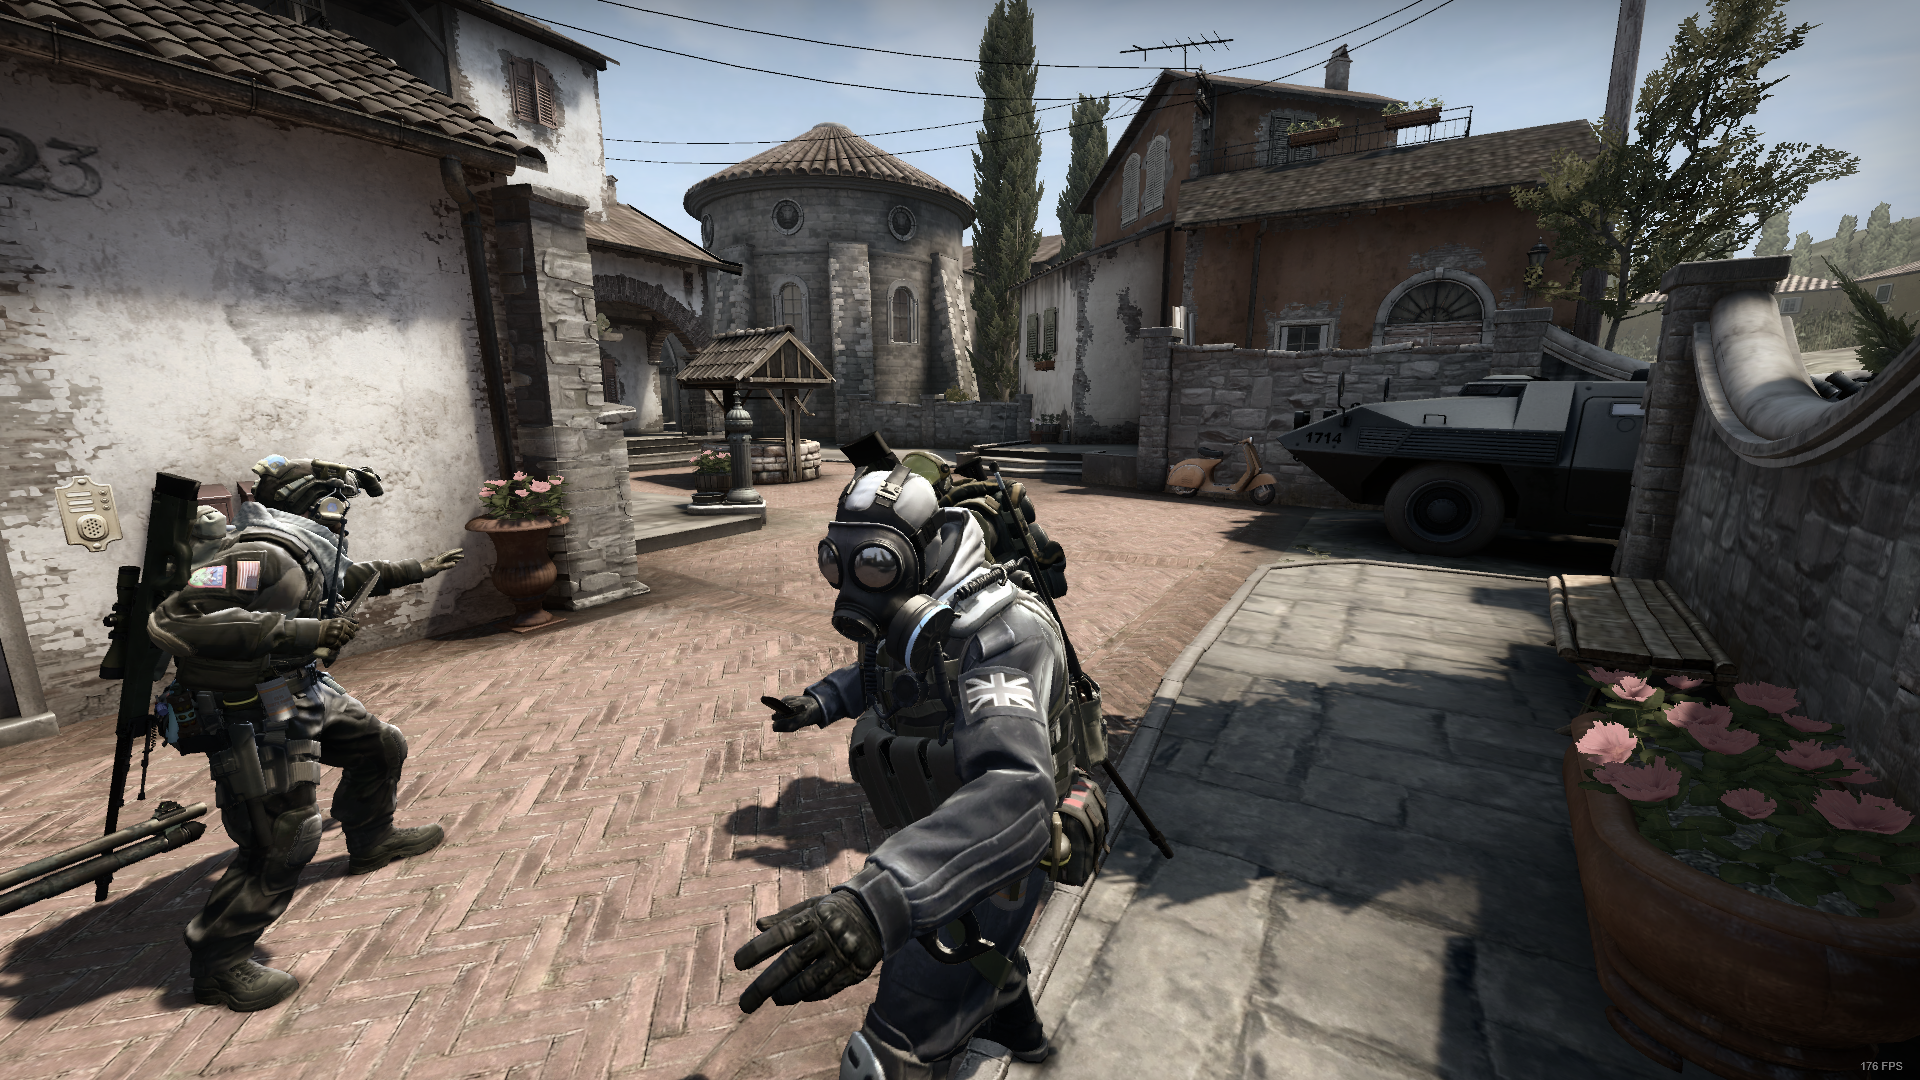ct: (729, 468, 1106, 1080)
